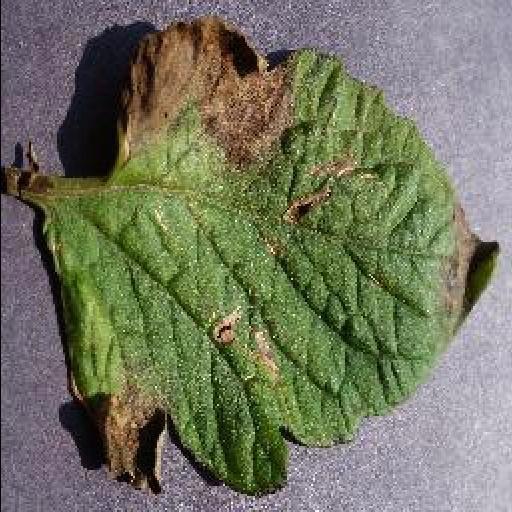disease_tomato: (34, 17, 498, 499)
